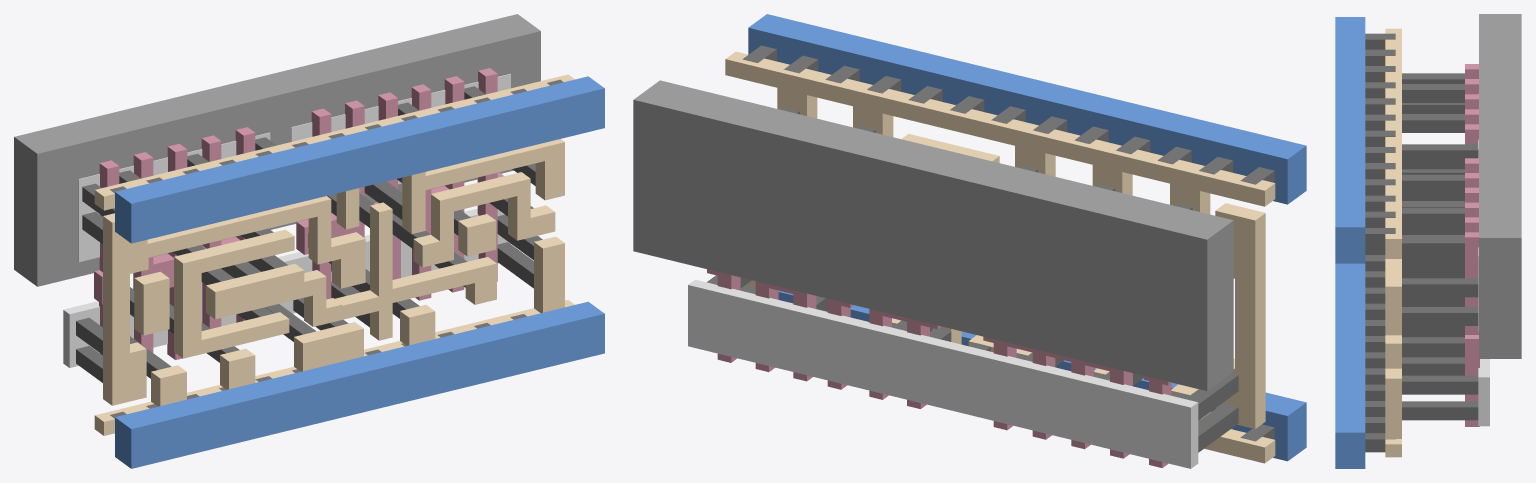
File: sky130_fd_sc_hd__a21bo_4.gds.gltf
3 views of the same model, side by side, from view 1: azimuth 30°, elevation 25°; view 2: azimuth 150°, elevation 25°; view 3: azimuth 270°, elevation 25° (orthographic). The views are drawn at different scales.
Parts seen in each view (by area): view 1: sky130_fd_sc_hd__a21bo_4_li1, sky130_fd_sc_hd__a21bo_4_met1, sky130_fd_sc_hd__a21bo_4_nwell, sky130_fd_sc_hd__a21bo_4_licon, sky130_fd_sc_hd__a21bo_4_poly, sky130_fd_sc_hd__a21bo_4_diff, sky130_fd_sc_hd__a21bo_4_mcon; view 2: sky130_fd_sc_hd__a21bo_4_nwell, sky130_fd_sc_hd__a21bo_4_diff, sky130_fd_sc_hd__a21bo_4_li1, sky130_fd_sc_hd__a21bo_4_met1, sky130_fd_sc_hd__a21bo_4_poly, sky130_fd_sc_hd__a21bo_4_mcon, sky130_fd_sc_hd__a21bo_4_licon; view 3: sky130_fd_sc_hd__a21bo_4_licon, sky130_fd_sc_hd__a21bo_4_nwell, sky130_fd_sc_hd__a21bo_4_met1, sky130_fd_sc_hd__a21bo_4_mcon, sky130_fd_sc_hd__a21bo_4_li1, sky130_fd_sc_hd__a21bo_4_poly, sky130_fd_sc_hd__a21bo_4_diff.
Boxes of the visible parts, x1,y1,x2,y2 form: sky130_fd_sc_hd__a21bo_4_li1: (94, 74, 574, 435); sky130_fd_sc_hd__a21bo_4_met1: (115, 76, 604, 468); sky130_fd_sc_hd__a21bo_4_nwell: (14, 14, 540, 286); sky130_fd_sc_hd__a21bo_4_licon: (76, 86, 542, 382); sky130_fd_sc_hd__a21bo_4_poly: (94, 68, 503, 359); sky130_fd_sc_hd__a21bo_4_diff: (63, 73, 510, 367); sky130_fd_sc_hd__a21bo_4_mcon: (110, 79, 563, 418); sky130_fd_sc_hd__a21bo_4_nwell: (633, 80, 1233, 390); sky130_fd_sc_hd__a21bo_4_diff: (688, 279, 1198, 468); sky130_fd_sc_hd__a21bo_4_li1: (725, 51, 1275, 463); sky130_fd_sc_hd__a21bo_4_met1: (748, 14, 1306, 461); sky130_fd_sc_hd__a21bo_4_poly: (707, 269, 1171, 467); sky130_fd_sc_hd__a21bo_4_mcon: (742, 45, 1274, 441); sky130_fd_sc_hd__a21bo_4_licon: (707, 107, 1238, 452); sky130_fd_sc_hd__a21bo_4_licon: (1402, 73, 1478, 420); sky130_fd_sc_hd__a21bo_4_nwell: (1479, 14, 1521, 358); sky130_fd_sc_hd__a21bo_4_met1: (1335, 17, 1365, 468); sky130_fd_sc_hd__a21bo_4_mcon: (1365, 33, 1395, 452); sky130_fd_sc_hd__a21bo_4_li1: (1385, 28, 1401, 457); sky130_fd_sc_hd__a21bo_4_poly: (1465, 64, 1479, 426); sky130_fd_sc_hd__a21bo_4_diff: (1478, 94, 1489, 426).
Size of the model in its own units: 6.36 by 3.2 by 2.24.
